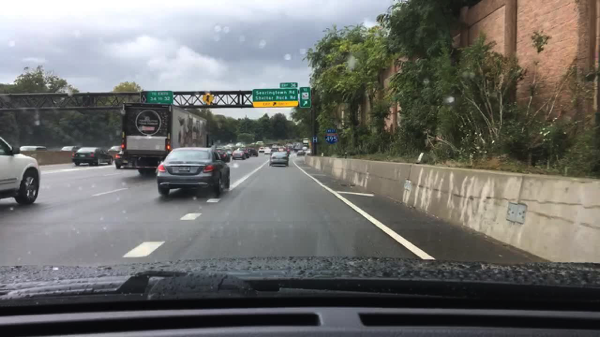car: (156, 146, 230, 197), (0, 133, 41, 206), (73, 146, 112, 167), (269, 151, 289, 168), (213, 148, 231, 162), (114, 151, 127, 169), (232, 148, 250, 160), (18, 145, 47, 152), (60, 145, 80, 153), (220, 147, 233, 154), (107, 146, 120, 153), (248, 147, 257, 156), (270, 147, 279, 155), (296, 149, 305, 157), (254, 141, 264, 146), (263, 148, 270, 155), (258, 147, 267, 152), (236, 142, 244, 147), (287, 145, 293, 151), (279, 146, 285, 151), (227, 143, 234, 147), (249, 142, 254, 147), (271, 143, 277, 147)
traffic sign: (252, 88, 298, 107), (139, 90, 174, 104), (298, 87, 311, 109), (201, 92, 214, 105), (326, 133, 338, 144), (279, 82, 298, 88), (325, 129, 337, 133)
truck: (120, 103, 208, 175), (290, 140, 301, 150), (298, 138, 309, 147)
